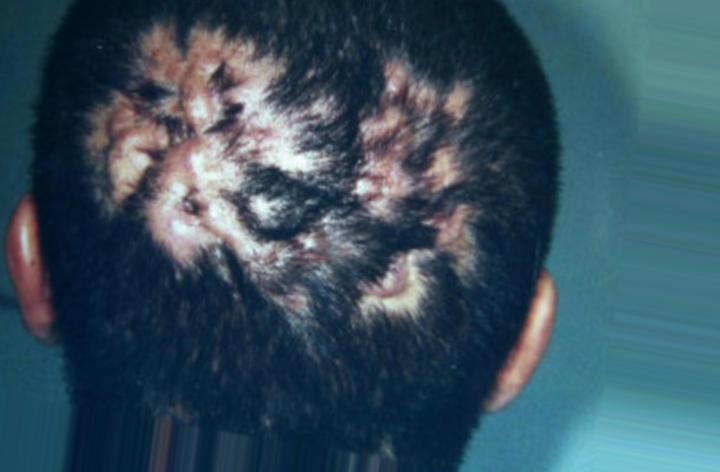Folliculitis: (84, 34, 483, 315)
